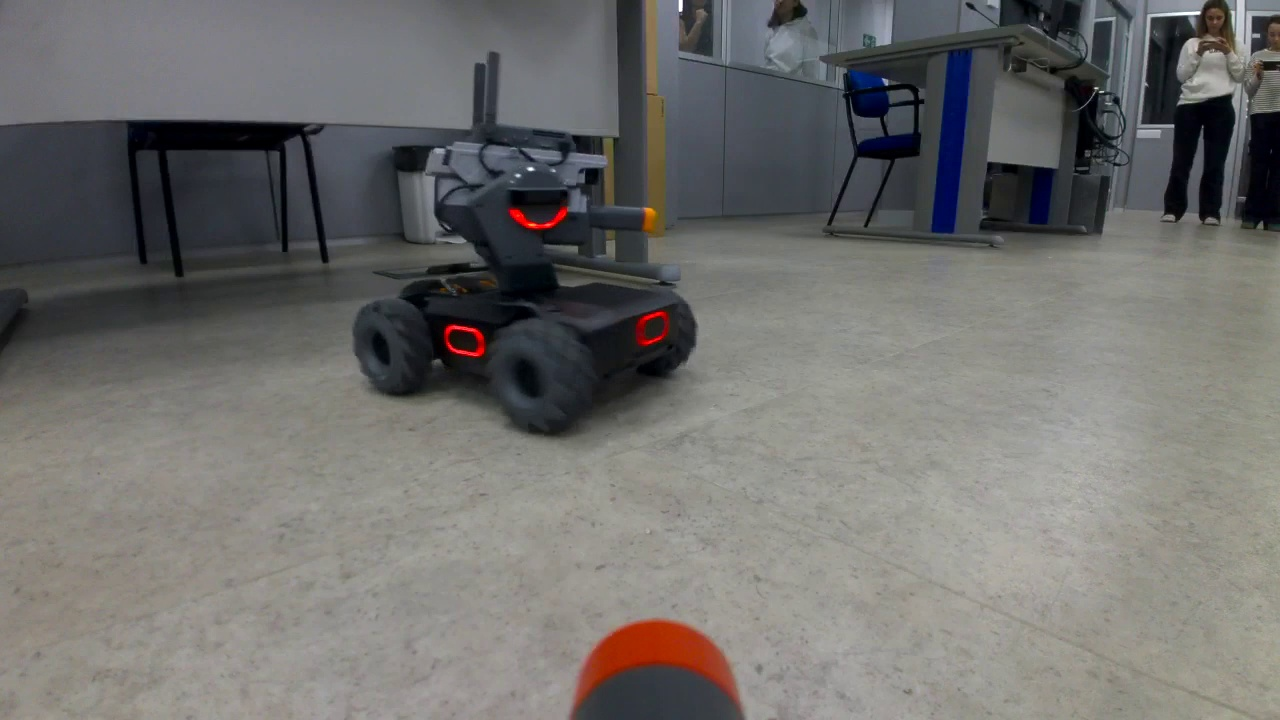robot: (351, 122, 699, 442)
